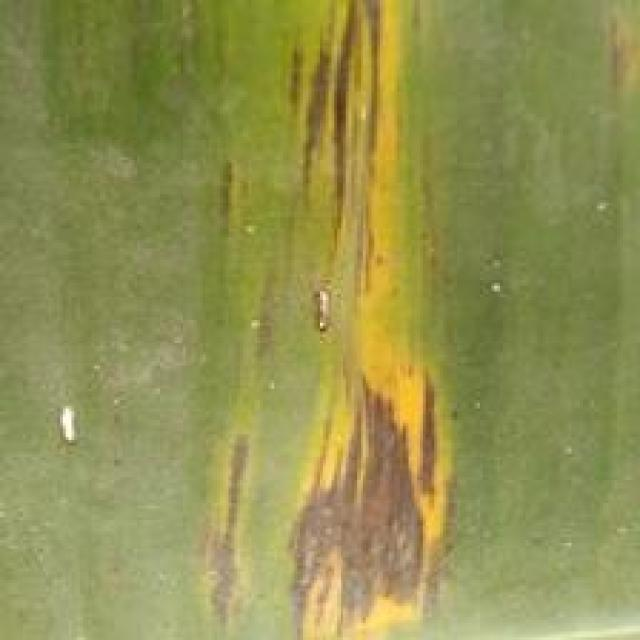Early_leaf_spot: (279, 0, 472, 636), (186, 423, 252, 629), (35, 375, 100, 478), (587, 0, 640, 118), (195, 148, 245, 235)
